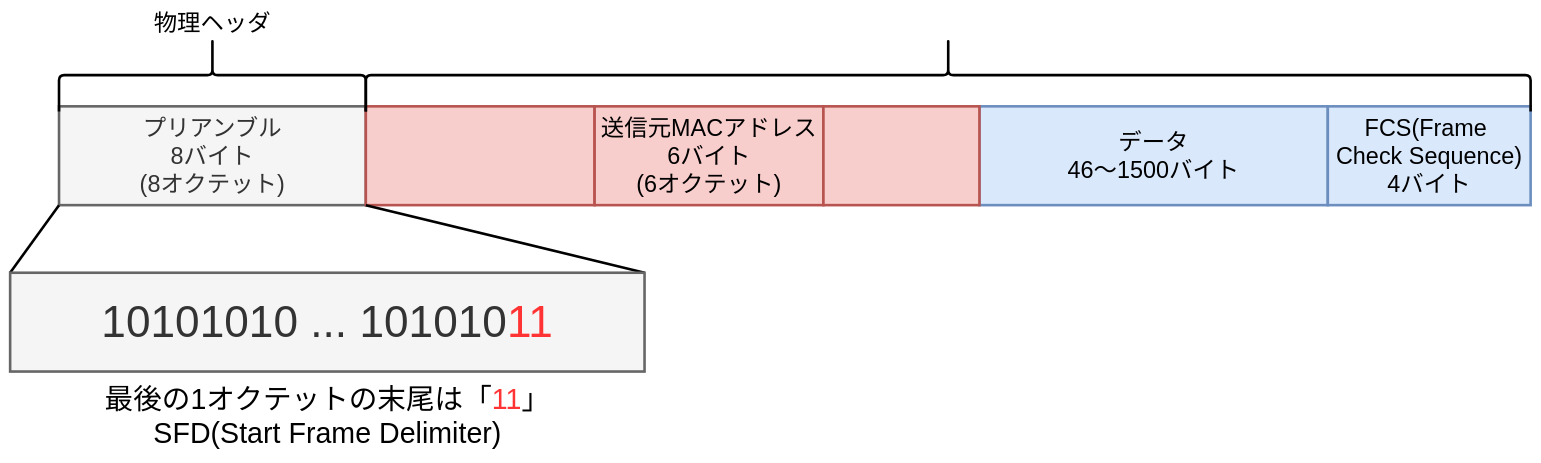
Image size: 1541x463. Some labels were removed from this diagram. The centre of each missing label's shape, as x and y in pixels:
イーサネットフレーム: pixel 948 75
タイプ 2バイト (2オクテット): pixel 901 155
宛先MACアドレス 6バイト (6オクテット): pixel 480 155
